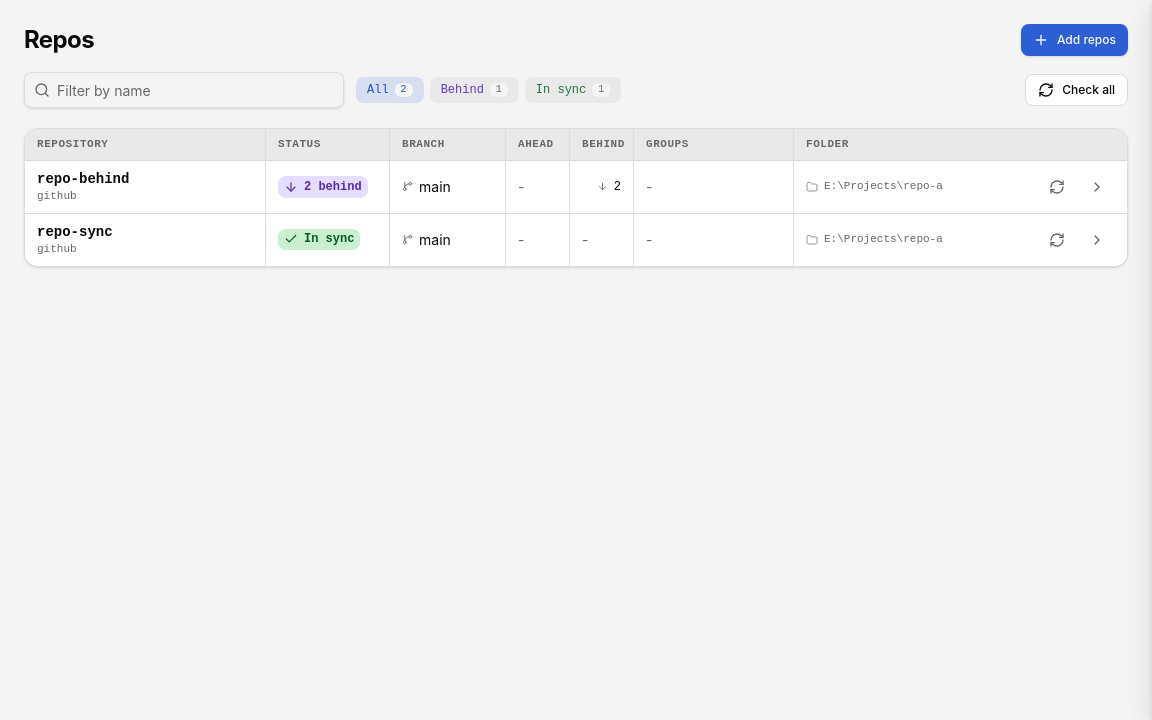
Test case: ReposScreen table › keeps the SELECTED status chip visible at zero, so a filter narrowing to nothing is never invisible
This screenshot has width=1152, height=720.
Expected: the text "repo-behind" is shown, [37,169,129,189]
Click the button "Behind 1" at {"x": 474, "y": 90}, box [430,77,519,103]
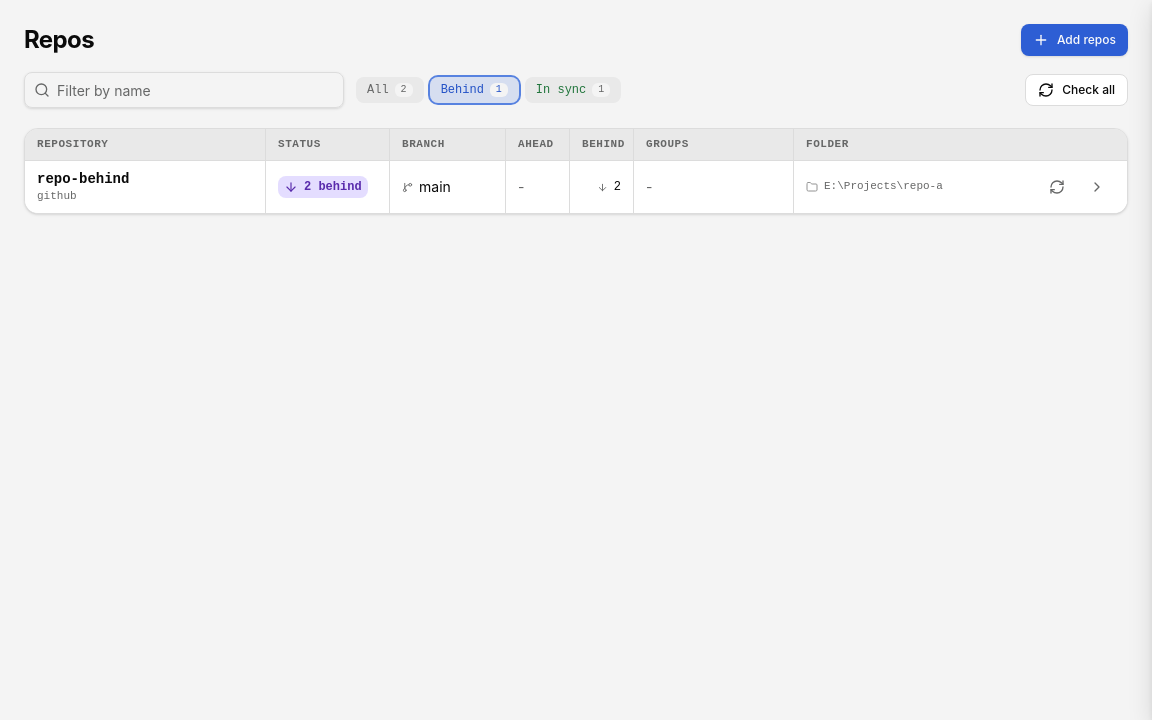
Type "repo-sync" into the field with placeholder "Filter by name" at {"x": 184, "y": 90}, box [24,72,344,108]
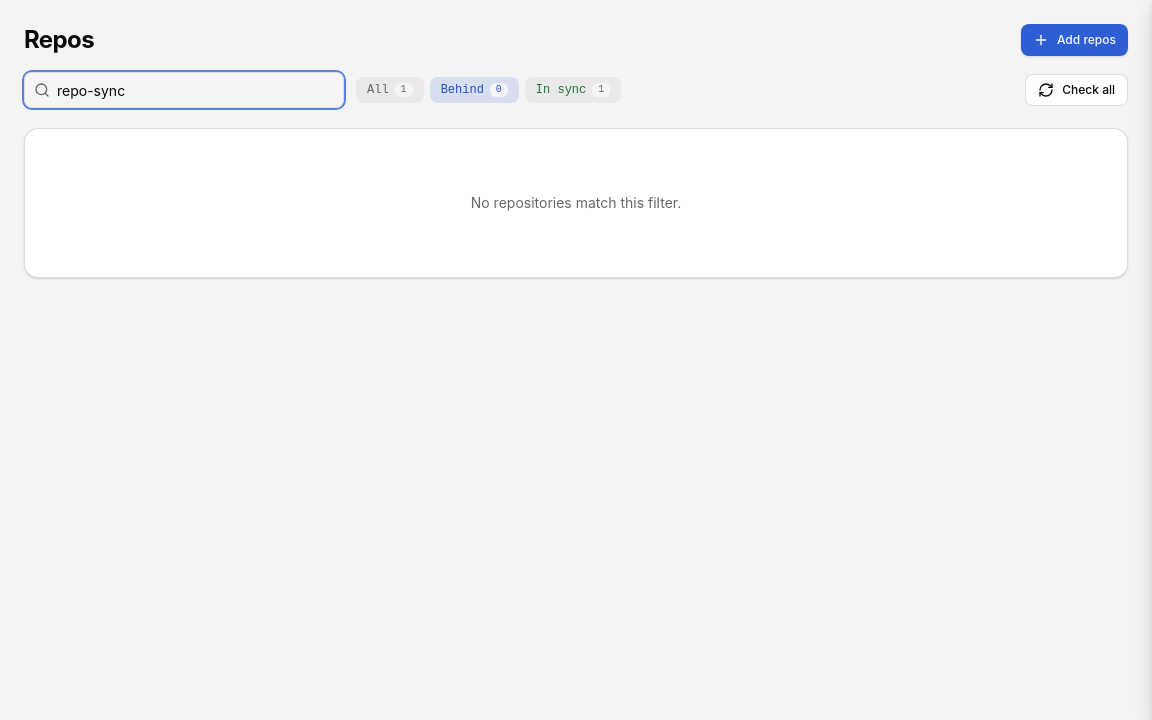
Expected: the button "Behind 0" is shown, [430,77,519,103]
Now the text "repo-behind" is gone
Now the column heading "Ahead" is gone
